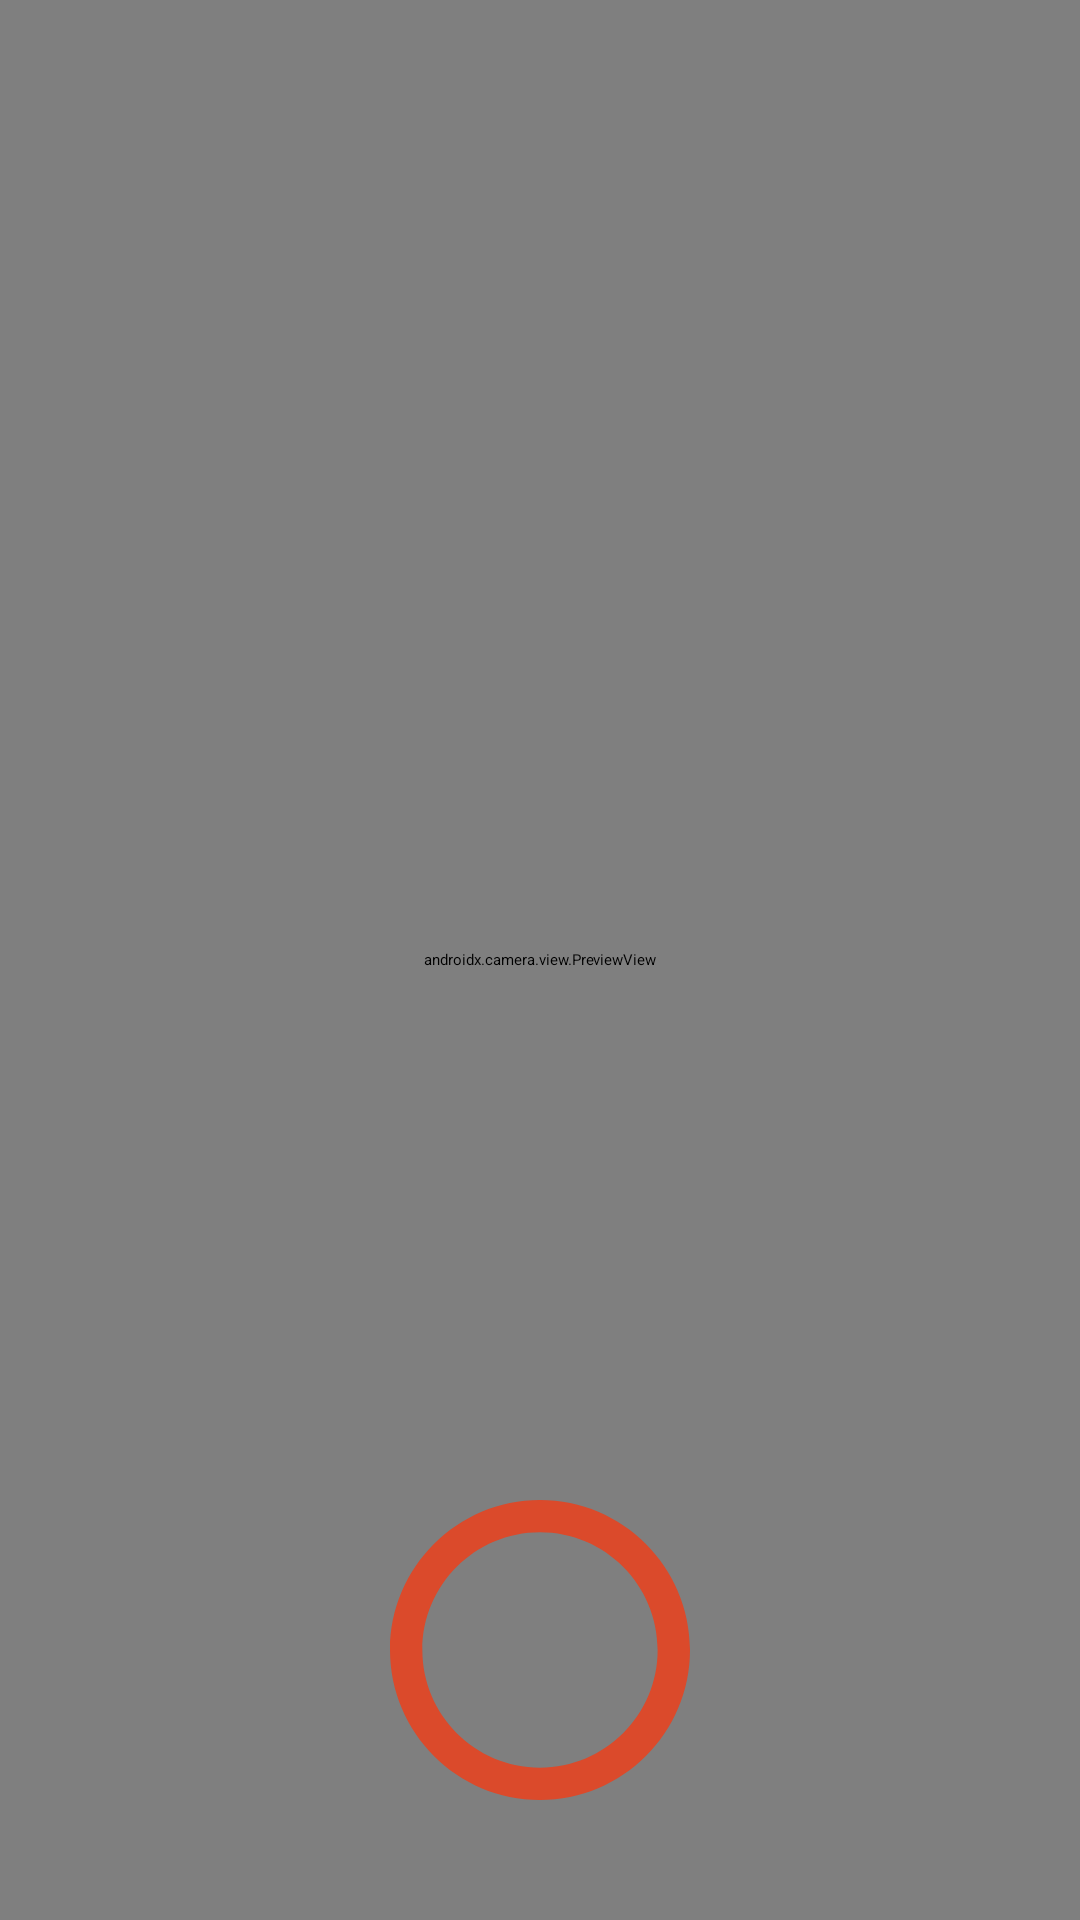

Icons on this 1080 x 1920 Android screen, each with the point to tap as (x,y):
capture: (540,1650)
